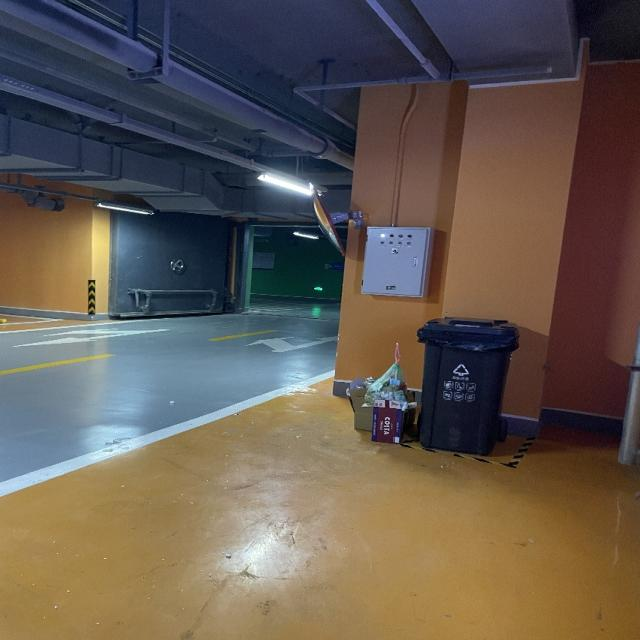garbage: (344, 342, 416, 444)
garbage_bin: (416, 316, 518, 456)
